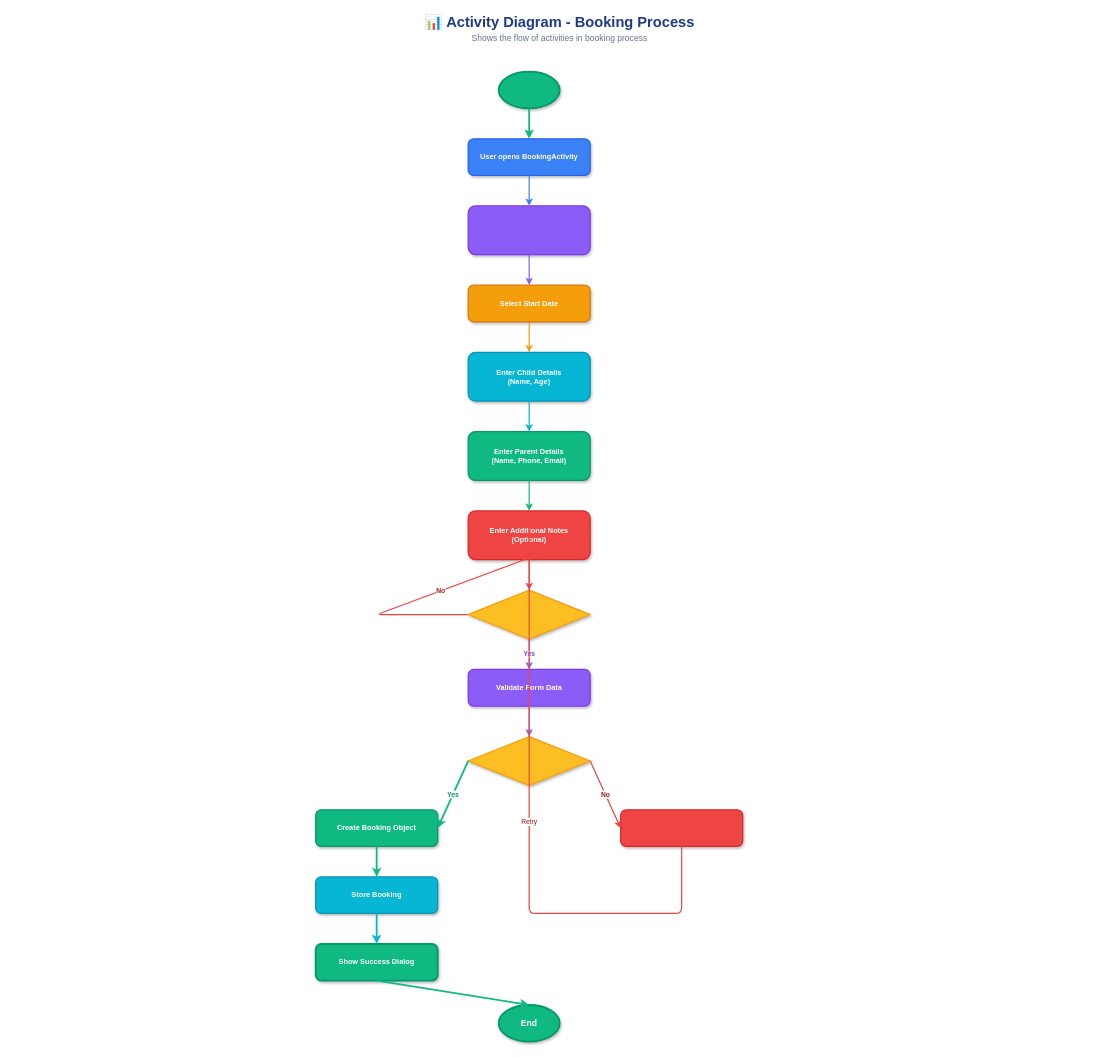
Image size: 1119x1057. Some labels were removed from this diagram. Each missing label, with the centre of its shape:
"Click Submit?" belongs at (529,615).
"Select Package Type (Full Time/Part Time/Hourly)" belongs at (529,231).
"Show Error Message" belongs at (682,828).
"Start" belongs at (529,90).
"Valid?" belongs at (529,761).
